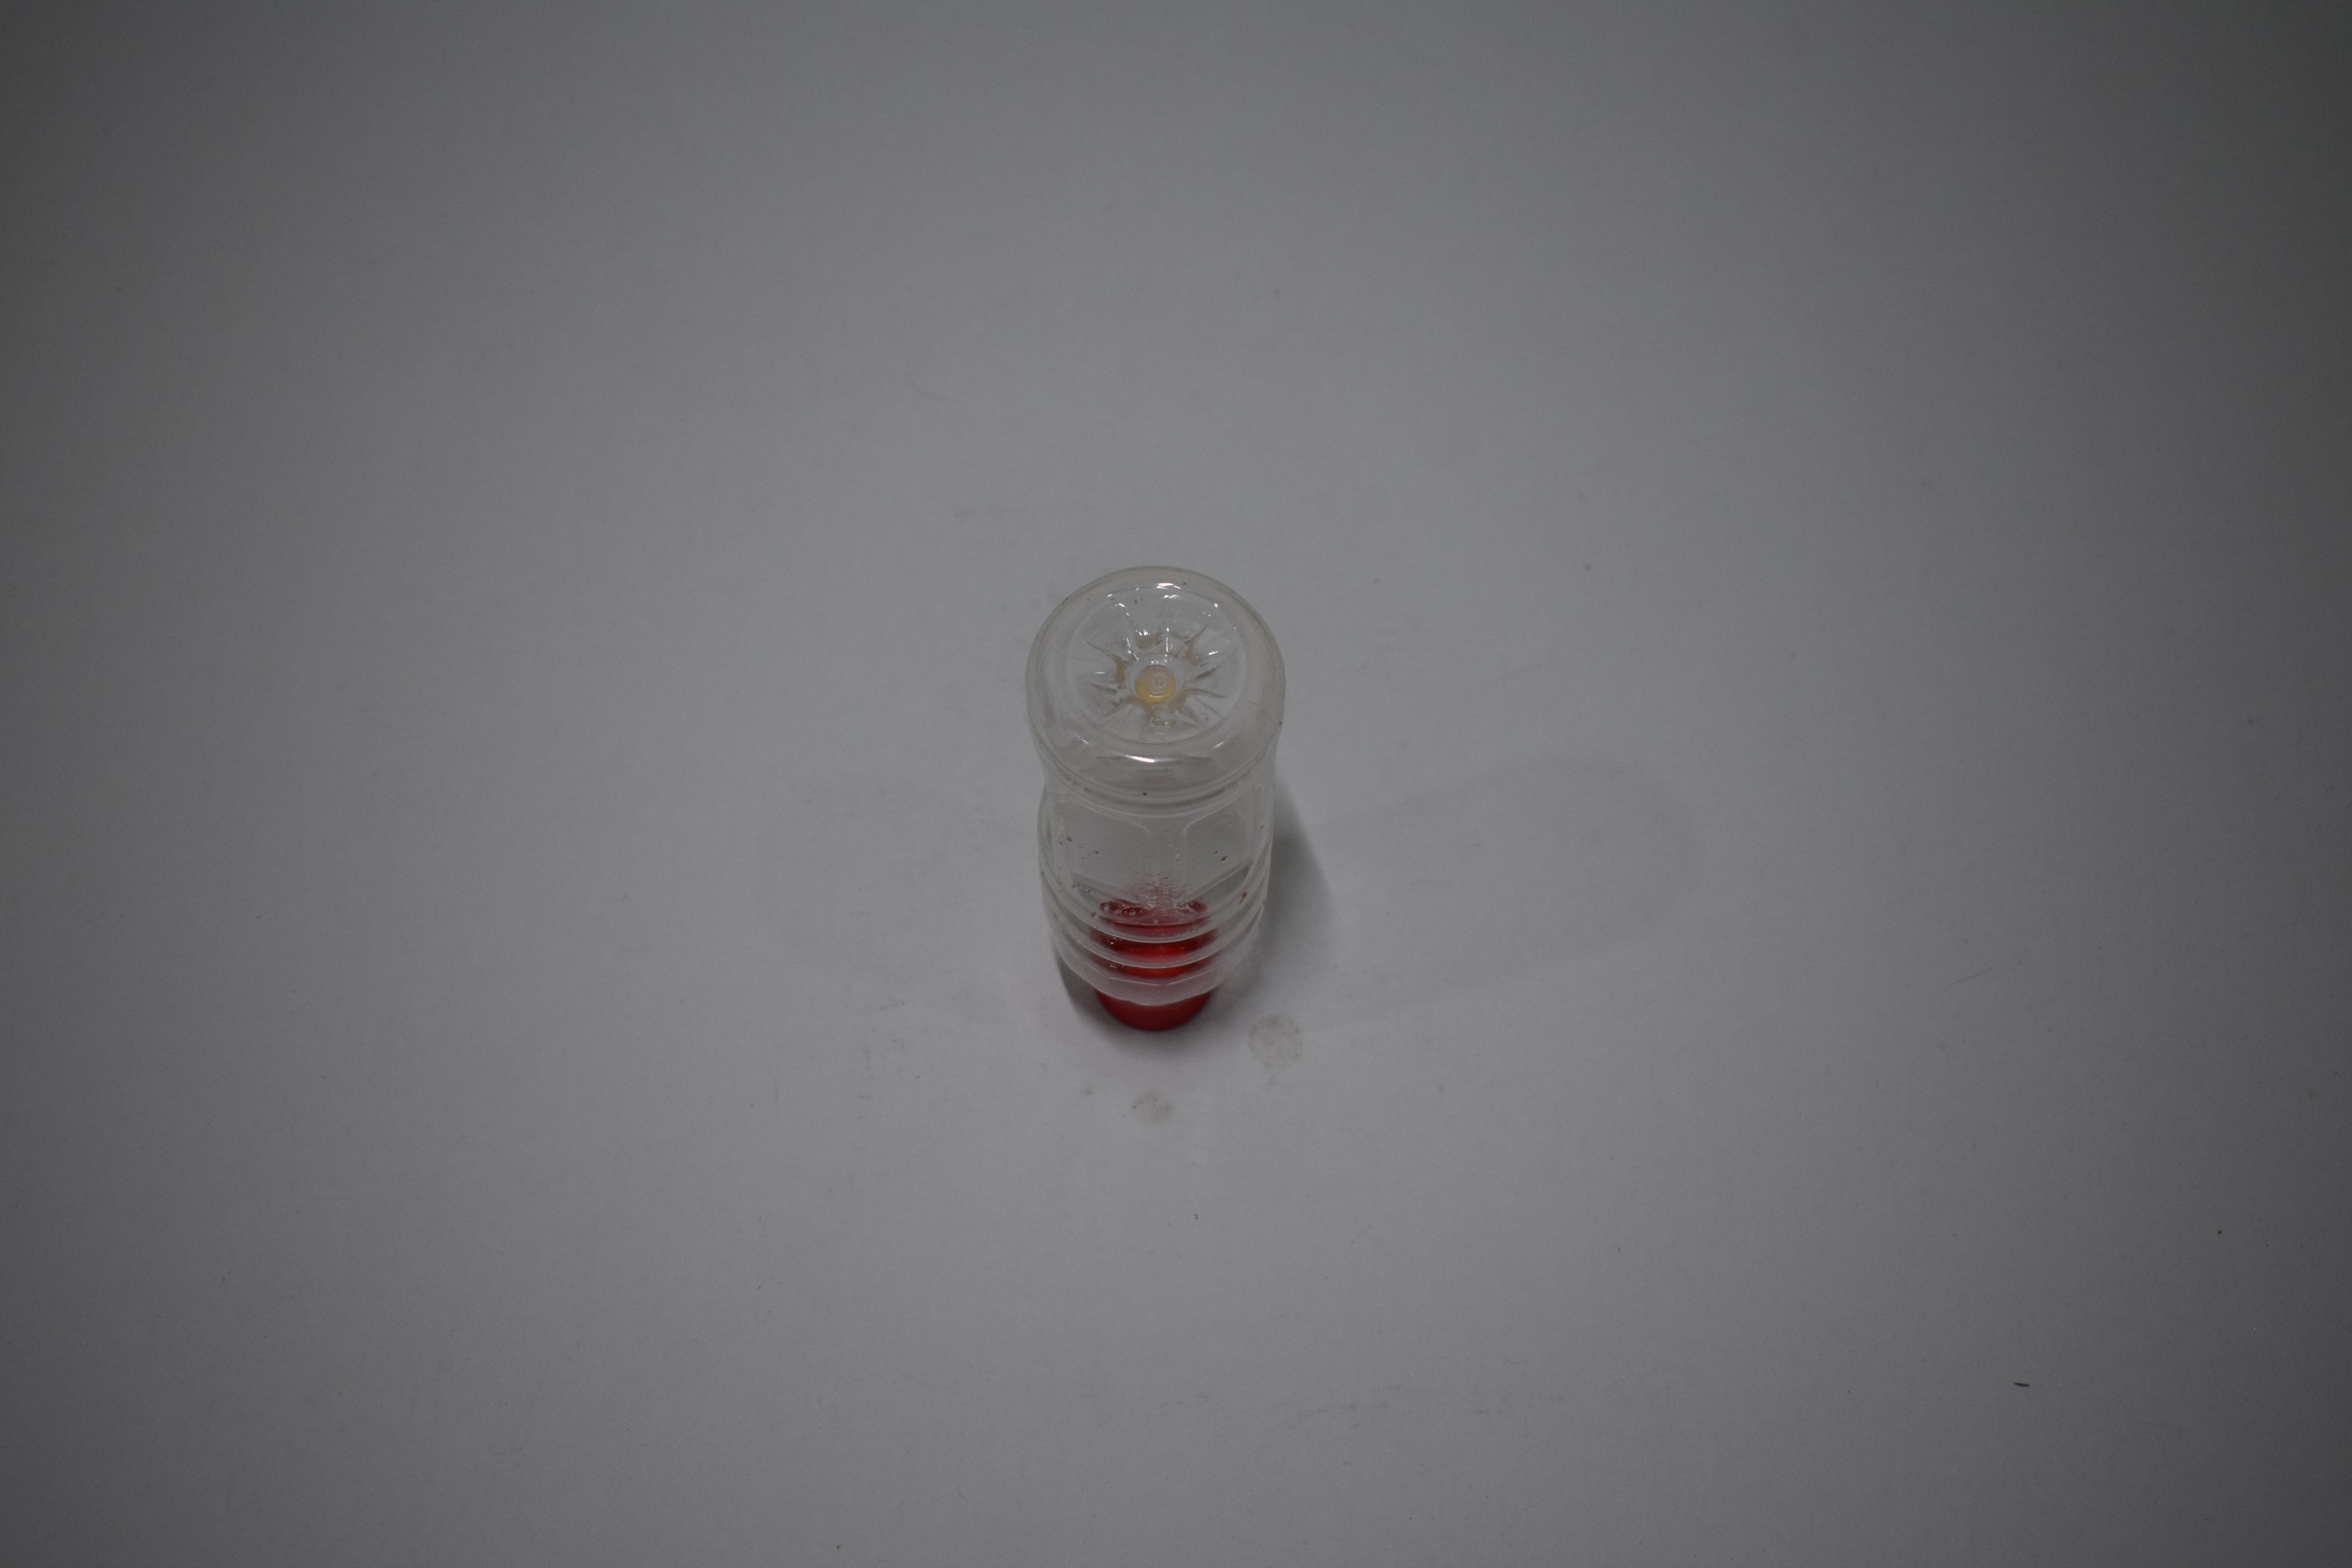bottle: (1012, 0, 1290, 250)
